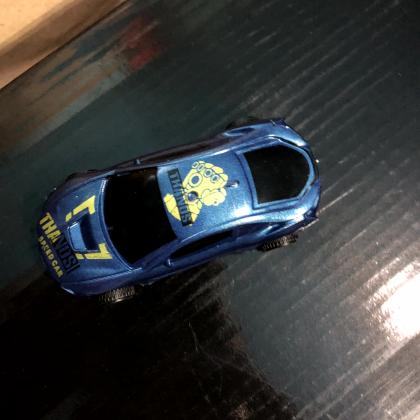Car: (36, 120, 322, 299)
